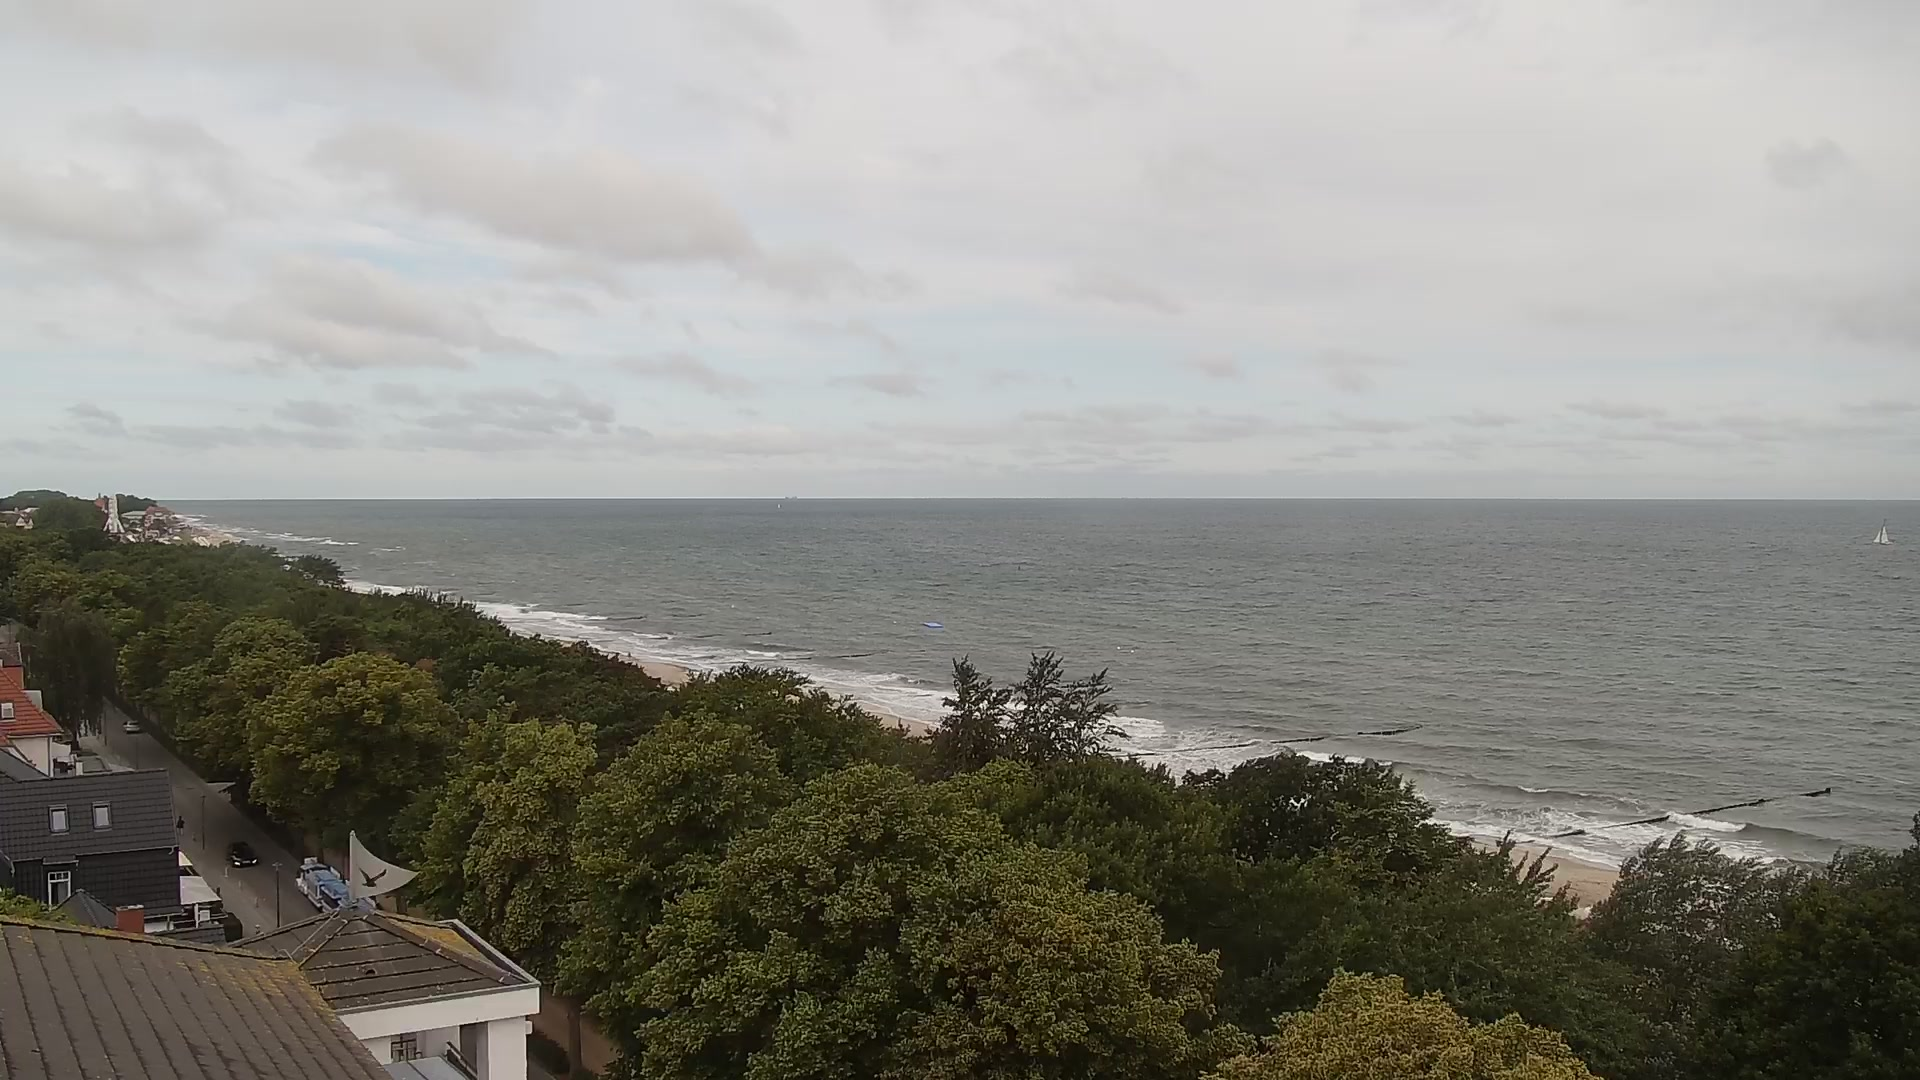human: (176, 815, 185, 836)
land: (293, 855, 378, 914), (226, 840, 258, 867), (120, 720, 141, 734)
sea: (1872, 517, 1892, 545)
